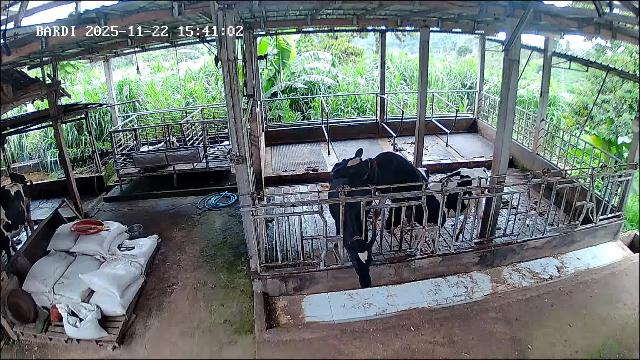mounting: (329, 147, 429, 206)
